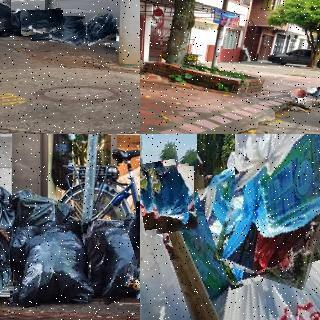Garbage: (170, 165, 320, 320), (223, 134, 320, 285), (140, 134, 209, 320), (10, 223, 91, 306), (11, 189, 94, 264), (86, 216, 140, 300), (150, 165, 196, 233), (30, 12, 86, 45), (0, 180, 21, 262), (76, 12, 118, 46), (21, 9, 64, 36), (0, 0, 12, 38), (297, 91, 317, 104), (306, 86, 320, 101), (291, 88, 307, 98)
